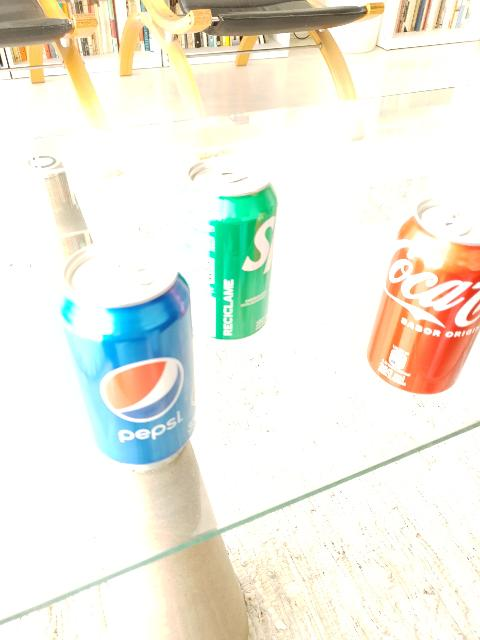coke: (366, 198, 480, 396)
pepsi: (57, 240, 197, 468)
sprite: (178, 147, 280, 339)
